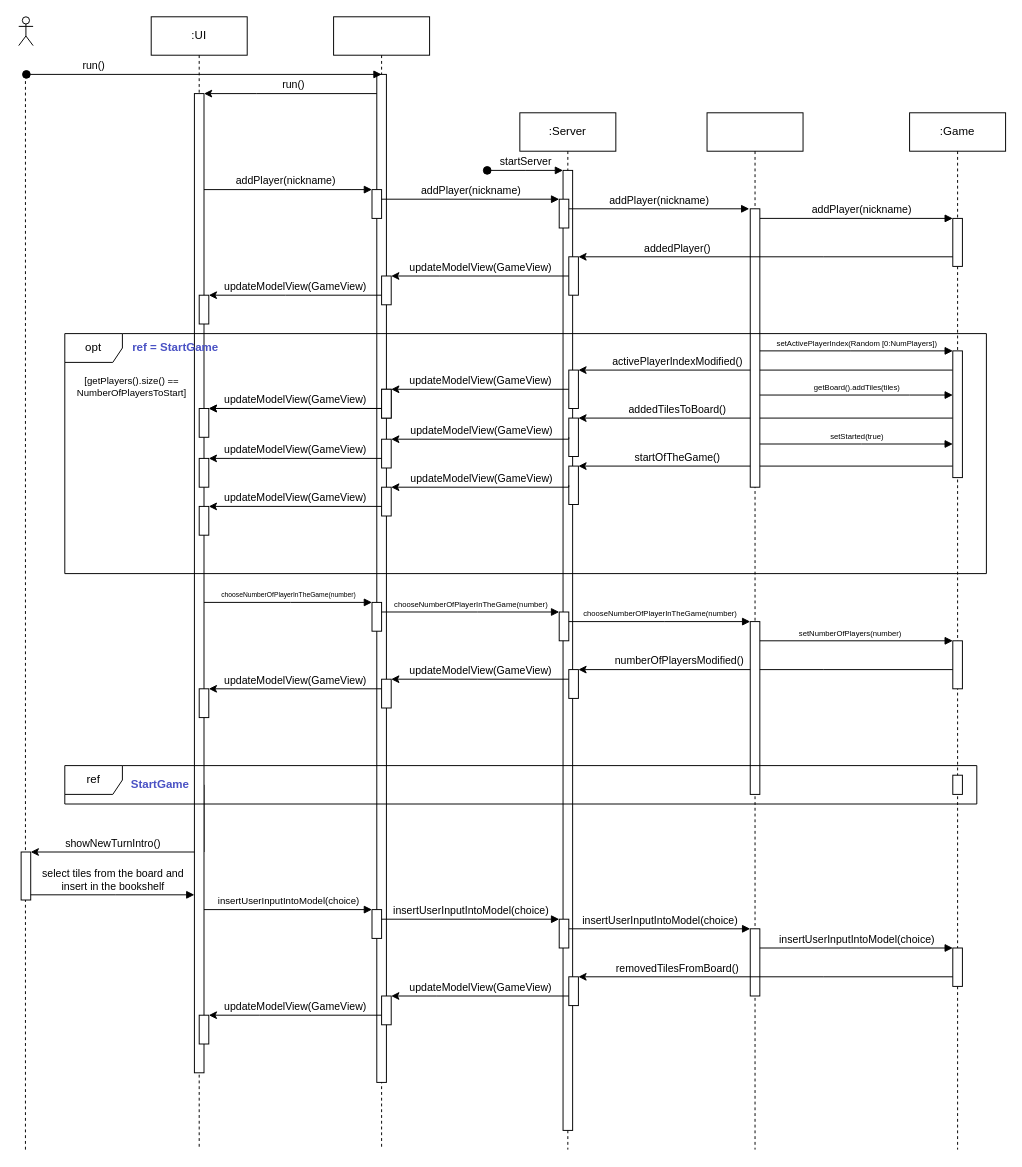
Some shapes in this 1022 by 1167 pixel diagram are drawn without their labels. The shapes that lost their labels are listed below. From the top down, each one's centre as x and y in pixels, then its label:
At point (25, 31): "User".
At point (381, 583): ":Client".
At point (754, 631): ":GameController".
